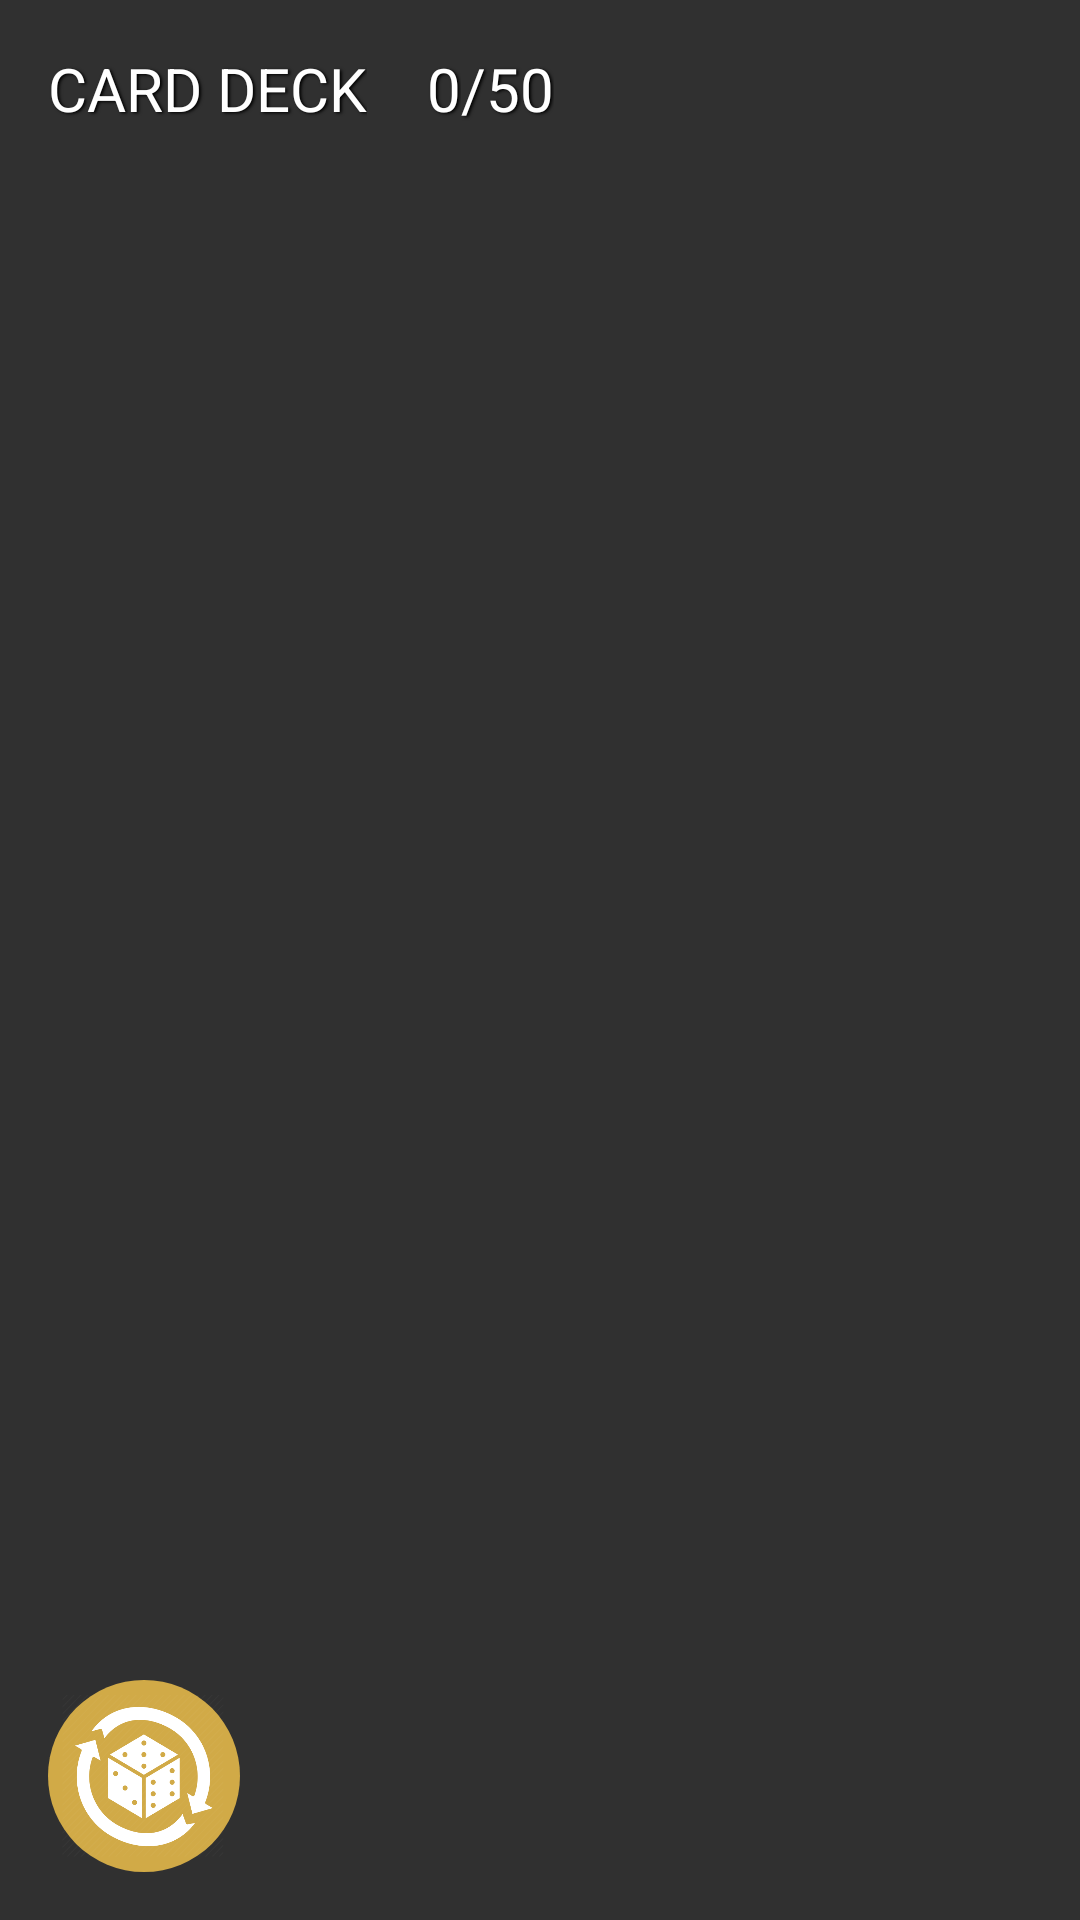

Icon bounding boxes for this 1080 x 1920 phone screenshot, format bbox=[x1, y1, x2, y2]:
roll: bbox=[48, 1680, 240, 1872]
